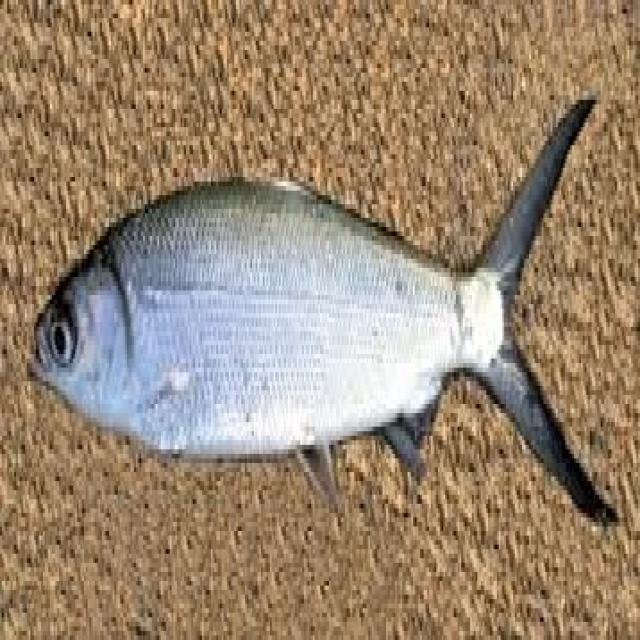Bangus: (18, 65, 640, 618)
